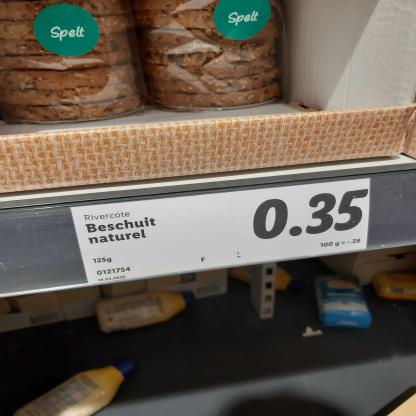prtg: (71, 179, 371, 285)
